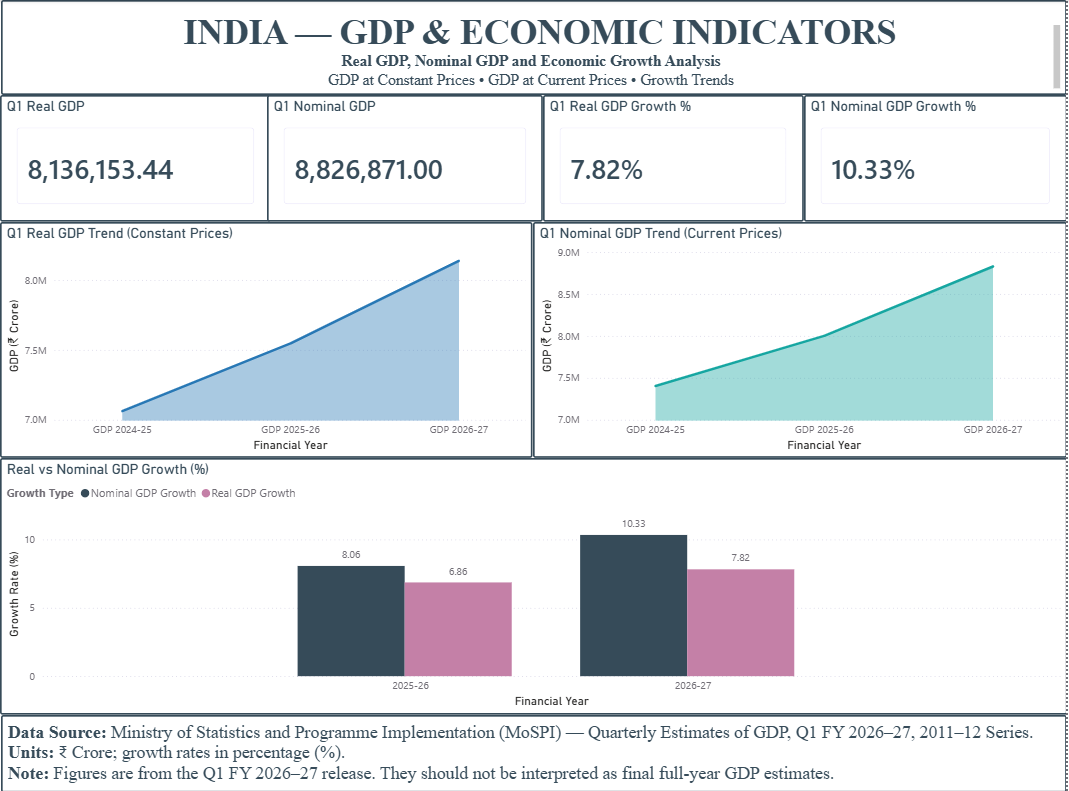

What the dashboard file says about the page in this screenshot:
{"tool":"powerbi","page":{"name":"Economic Indicators","canvas":[1280,950],"ordinal":1},"visuals":[{"type":"cardVisual","title":"Q1 Real GDP","fields":{"Data":["Fact_GDP_Constant.Latest Real GDP"]},"box":[0,114.6,325.2,151.7],"z":0},{"type":"cardVisual","title":"Q1 Nominal GDP","fields":{"Data":["Fact_GDP_Current.Latest Nominal GDP"]},"box":[320.5,114.6,331.4,151.7],"z":1000},{"type":"cardVisual","title":"Q1 Real GDP Growth %","fields":{"Data":["Fact_GDP_Constant.Real GDP Growth %"]},"box":[651.9,114.6,312.8,151.7],"z":2000},{"type":"cardVisual","title":"Q1 Nominal GDP Growth %","fields":{"Data":["Fact_GDP_Current.Nominal GDP Growth %"]},"box":[964.6,114.6,315.9,151.7],"z":3000},{"type":"lineChart","title":"Q1 Real GDP Trend (Constant Prices)","fields":{"Category":["Fact_GDP_Constant.Financial Year"],"Y":["Sum(Fact_GDP_Constant.GDP (₹ Crore))"]},"box":[0,266.3,639.5,283.4],"z":4000},{"type":"lineChart","title":"Q1 Nominal GDP Trend (Current Prices)","fields":{"Category":["Fact_GDP_Current.Financial Year"],"Y":["Sum(Fact_GDP_Current.GDP (₹ Crore))"]},"box":[639.5,266.3,641,283.4],"z":5000},{"type":"clusteredColumnChart","title":"Real vs Nominal GDP Growth (%)","fields":{"Category":["Fact_GDP_Growth_Comparison.Financial Year"],"Y":["Sum(Fact_GDP_Growth_Comparison.Growth Rate)"],"Series":["Fact_GDP_Growth_Comparison.Growth Type"]},"box":[0,549.7,1280.5,308.1],"z":6000},{"type":"textbox","box":[1.5,857.8,1279,92.9],"z":7000},{"type":"textbox","box":[1.2,0,1279.2,114],"z":8000}]}

Visuals, with their boxes in screenshot pixels (x1, y1, x2, y2), scaled from the page's 1280x950 canvas onto the 1069x791 screenshot:
"Q1 Real GDP" cardVisual: BBox(0, 95, 272, 222)
"Q1 Nominal GDP" cardVisual: BBox(268, 95, 544, 222)
"Q1 Real GDP Growth %" cardVisual: BBox(544, 95, 806, 222)
"Q1 Nominal GDP Growth %" cardVisual: BBox(806, 95, 1068, 222)
"Q1 Real GDP Trend (Constant Prices)" lineChart: BBox(0, 222, 534, 458)
"Q1 Nominal GDP Trend (Current Prices)" lineChart: BBox(534, 222, 1068, 458)
"Real vs Nominal GDP Growth (%)" clusteredColumnChart: BBox(0, 458, 1068, 714)
textbox: BBox(1, 714, 1068, 790)
textbox: BBox(1, 0, 1068, 95)
